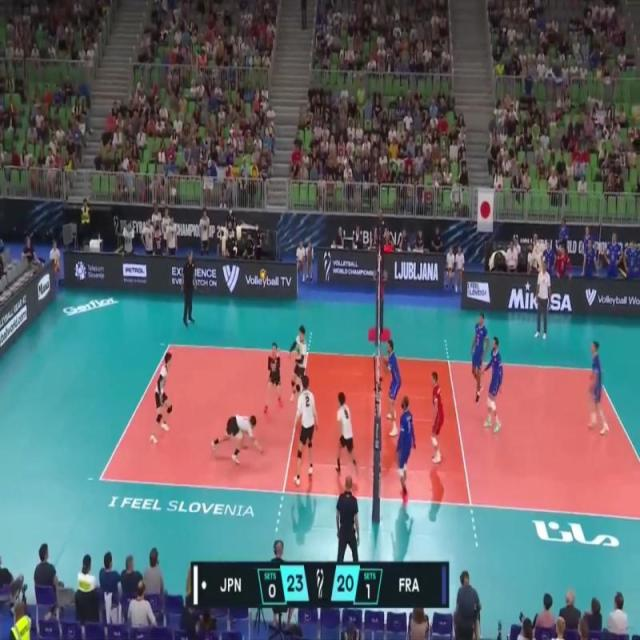volleyball: (259, 268, 267, 280)
